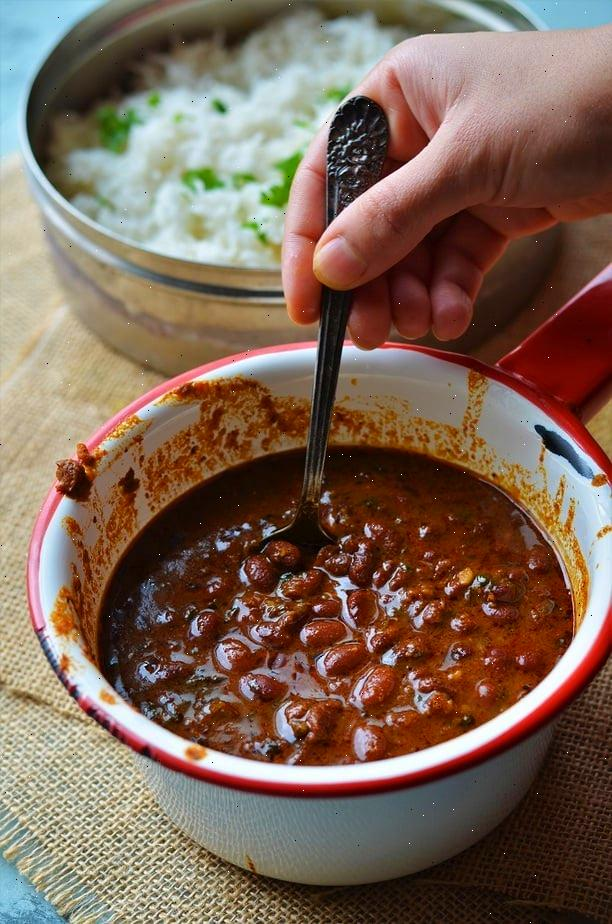rajma: (118, 460, 562, 750)
